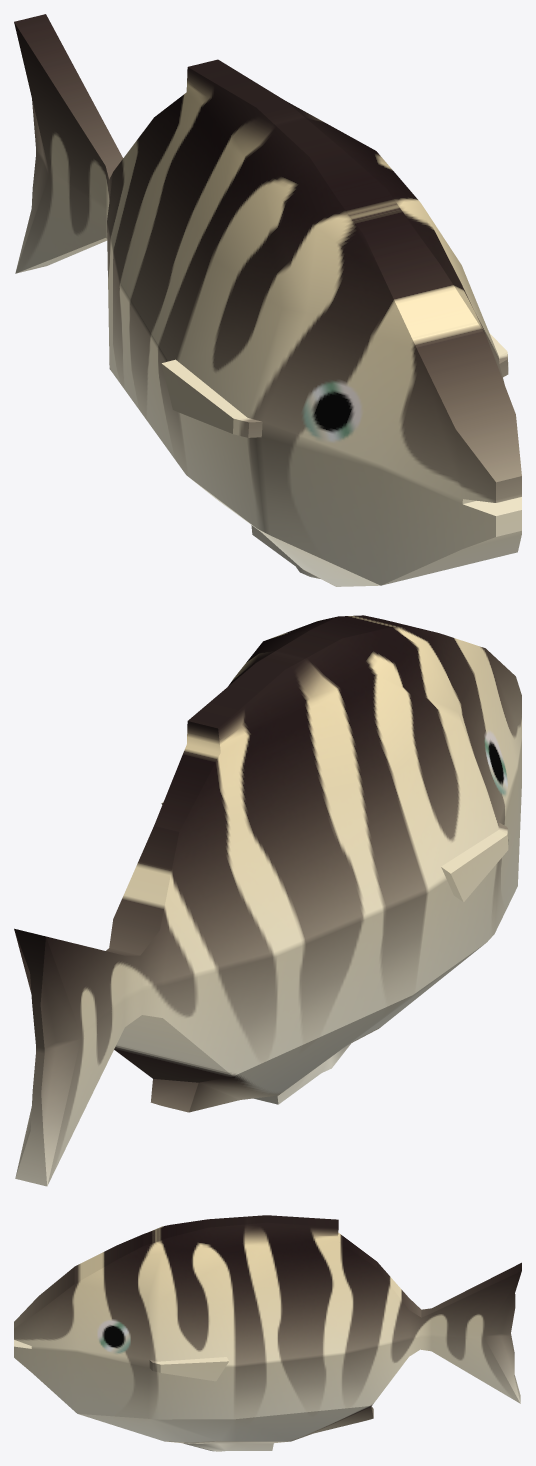
Rendered from zebraPerch.fbx.
3 views of the same model, one above another, from view 1: azimuth 30°, elevation 25°; view 2: azimuth 150°, elevation 25°; view 3: azimuth 270°, elevation 25° (orthographic). The views are drawn at different scales.
Parts seen in each view (by area): view 1: ZebraPerch; view 2: ZebraPerch; view 3: ZebraPerch.
Boxes of the visible parts, left/top/right/bottom form: ZebraPerch: left=14, top=14, right=521, bottom=586; ZebraPerch: left=14, top=615, right=521, bottom=1186; ZebraPerch: left=14, top=1215, right=521, bottom=1451.
Bounding box in the file's own units: 0.2668 × 0.3783 × 0.7613.
